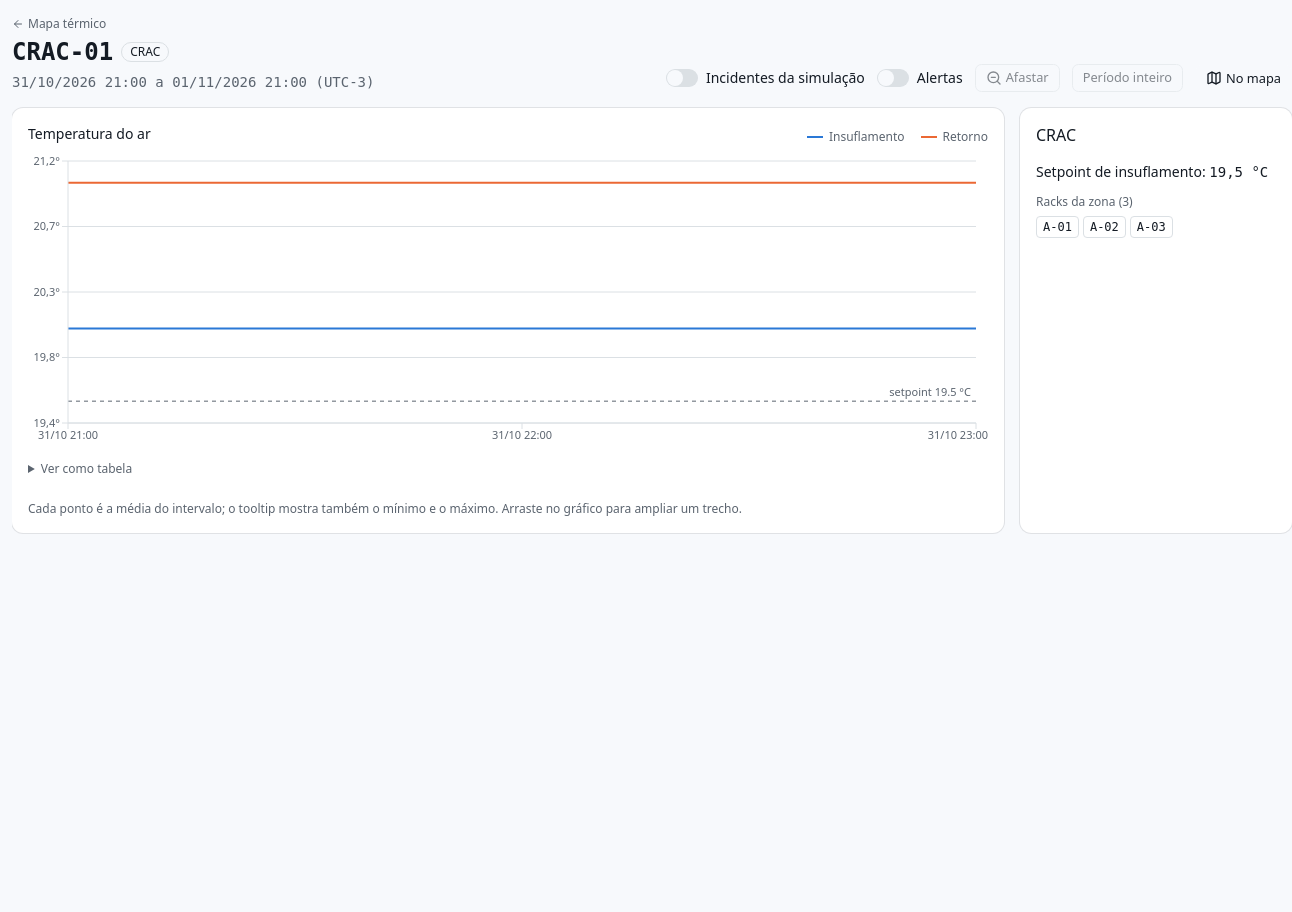
Test: Detalhe › oferece a visão em tabela dos dados do gráfico
The image size is (1292, 912).
Click the heading "Ver como tabela": (86, 468) [41, 460, 132, 477]
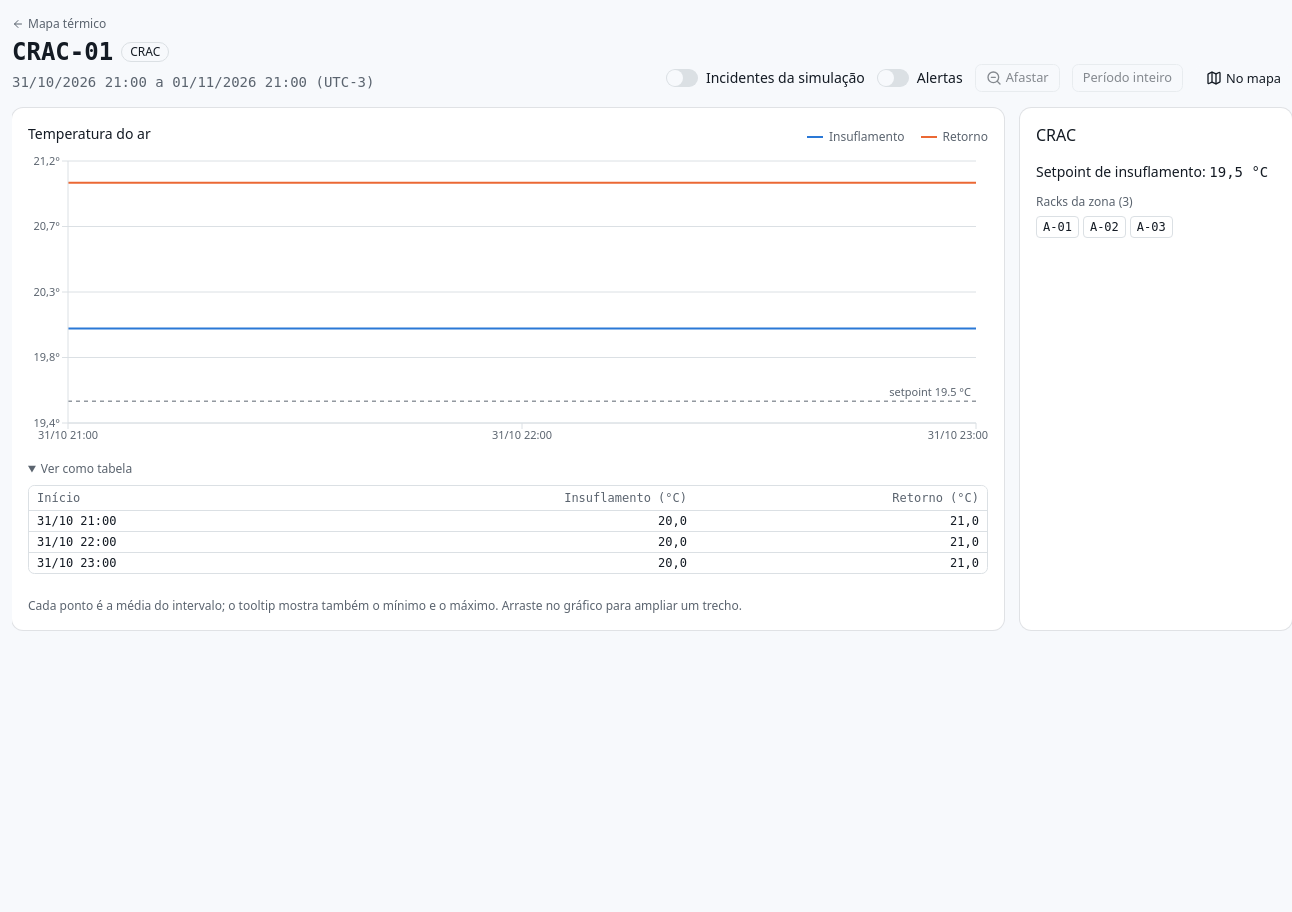
Check: the column heading "Insuflamento (°C)" is shown, box [300, 486, 695, 510]
Check: the number of rows is 4, box [29, 486, 987, 510]; [29, 510, 987, 532]; [29, 532, 987, 552]; [29, 552, 987, 573]
